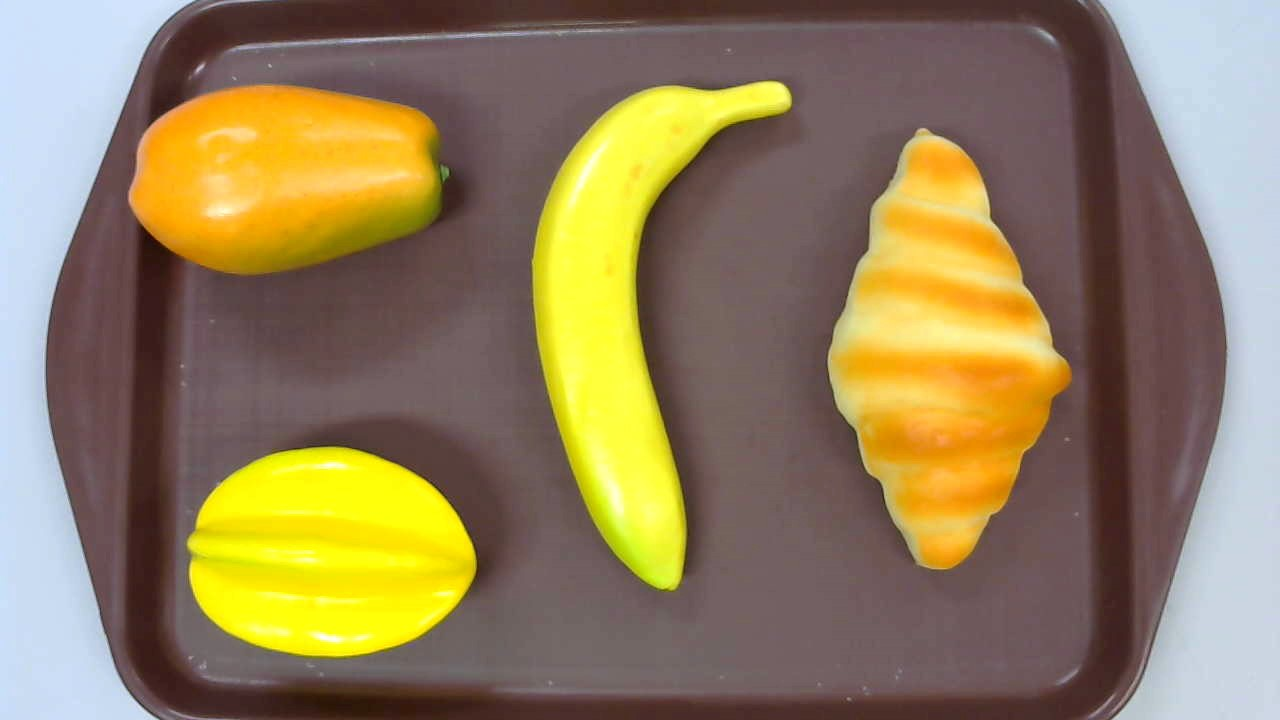banana: (530, 81, 792, 589)
croissant: (828, 128, 1072, 572)
papaya: (126, 85, 452, 277)
star fruit: (186, 447, 476, 657)
